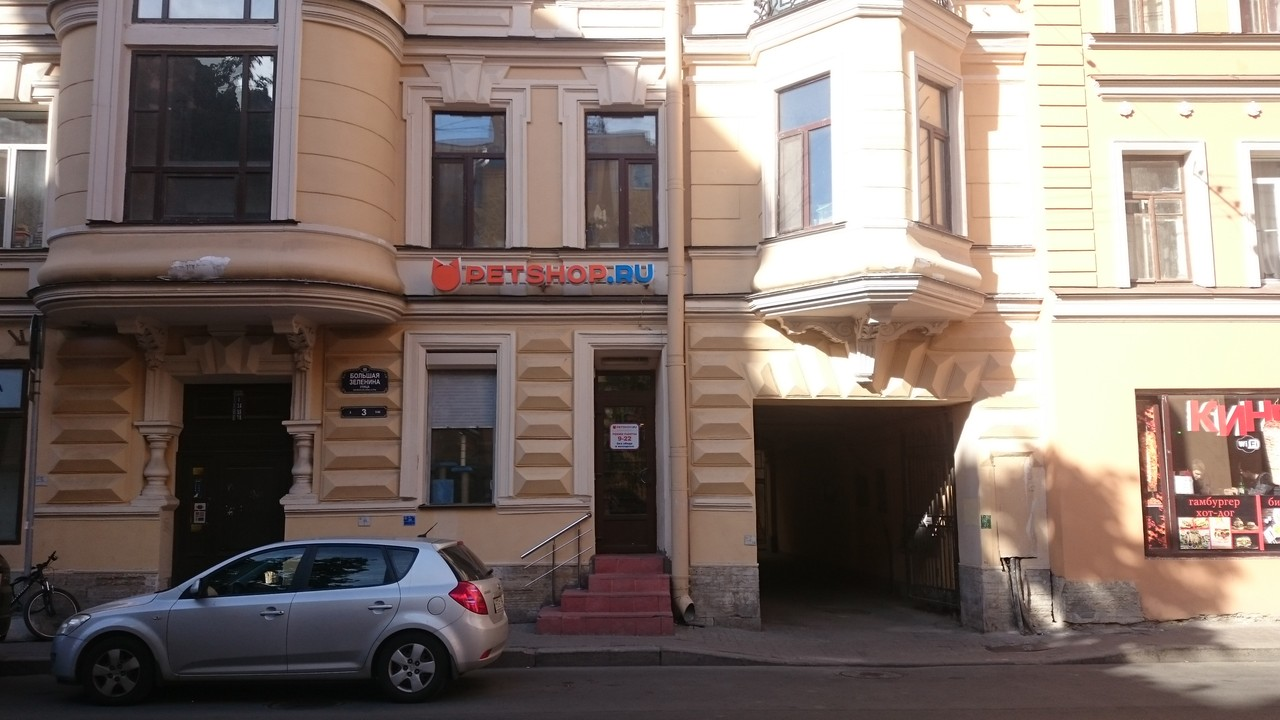arch: (754, 397, 986, 636)
signboard: (432, 258, 656, 285)
window: (124, 52, 281, 224), (1147, 387, 1277, 552), (585, 111, 659, 248), (435, 112, 507, 249), (427, 365, 497, 505), (1122, 155, 1196, 284), (777, 71, 830, 239), (917, 73, 957, 238)
